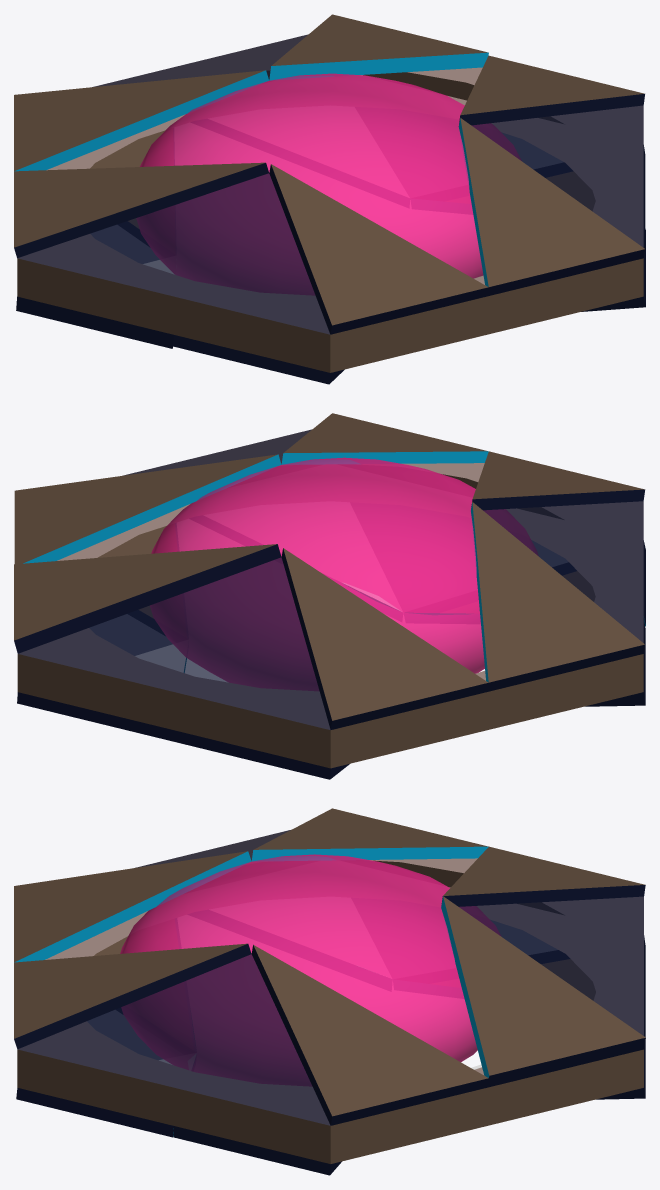
Rendered from infected_bit.dae.
The picture shows the model from 3 angles, top to bottom: view 1: azimuth 30°, elevation 25°; view 2: azimuth 150°, elevation 25°; view 3: azimuth 270°, elevation 25°; orthographic projection.
Parts seen in each view (by area): view 1: SketchUp (×27); view 2: SketchUp (×24); view 3: SketchUp (×25).
Boxes of the visible parts, x1,y1,x2,y2 form: SketchUp (×27): [14, 14, 645, 384]; SketchUp (×24): [14, 413, 645, 779]; SketchUp (×25): [14, 808, 645, 1175].
Bounding box in the file's own units: 95.19 × 82.52 × 26.14.
